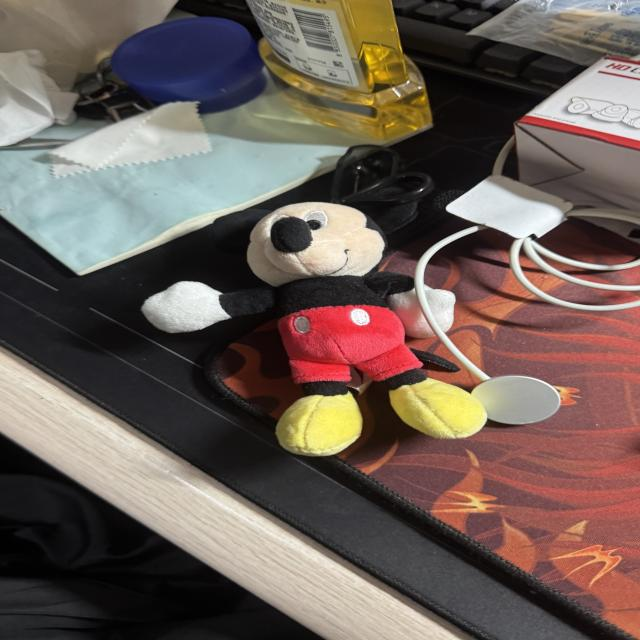mickey: (143, 203, 486, 456)
tissue: (0, 0, 176, 90), (51, 102, 211, 177), (0, 50, 78, 145)
